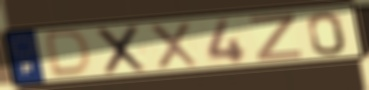0: (304, 10, 349, 57)
4: (204, 17, 248, 65)
D: (45, 29, 95, 79)
X: (95, 23, 148, 76), (146, 21, 201, 70)
Z: (248, 13, 306, 63)
